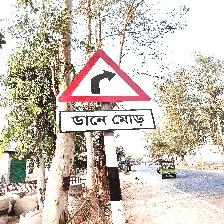Right-turn: (57, 49, 156, 135)
